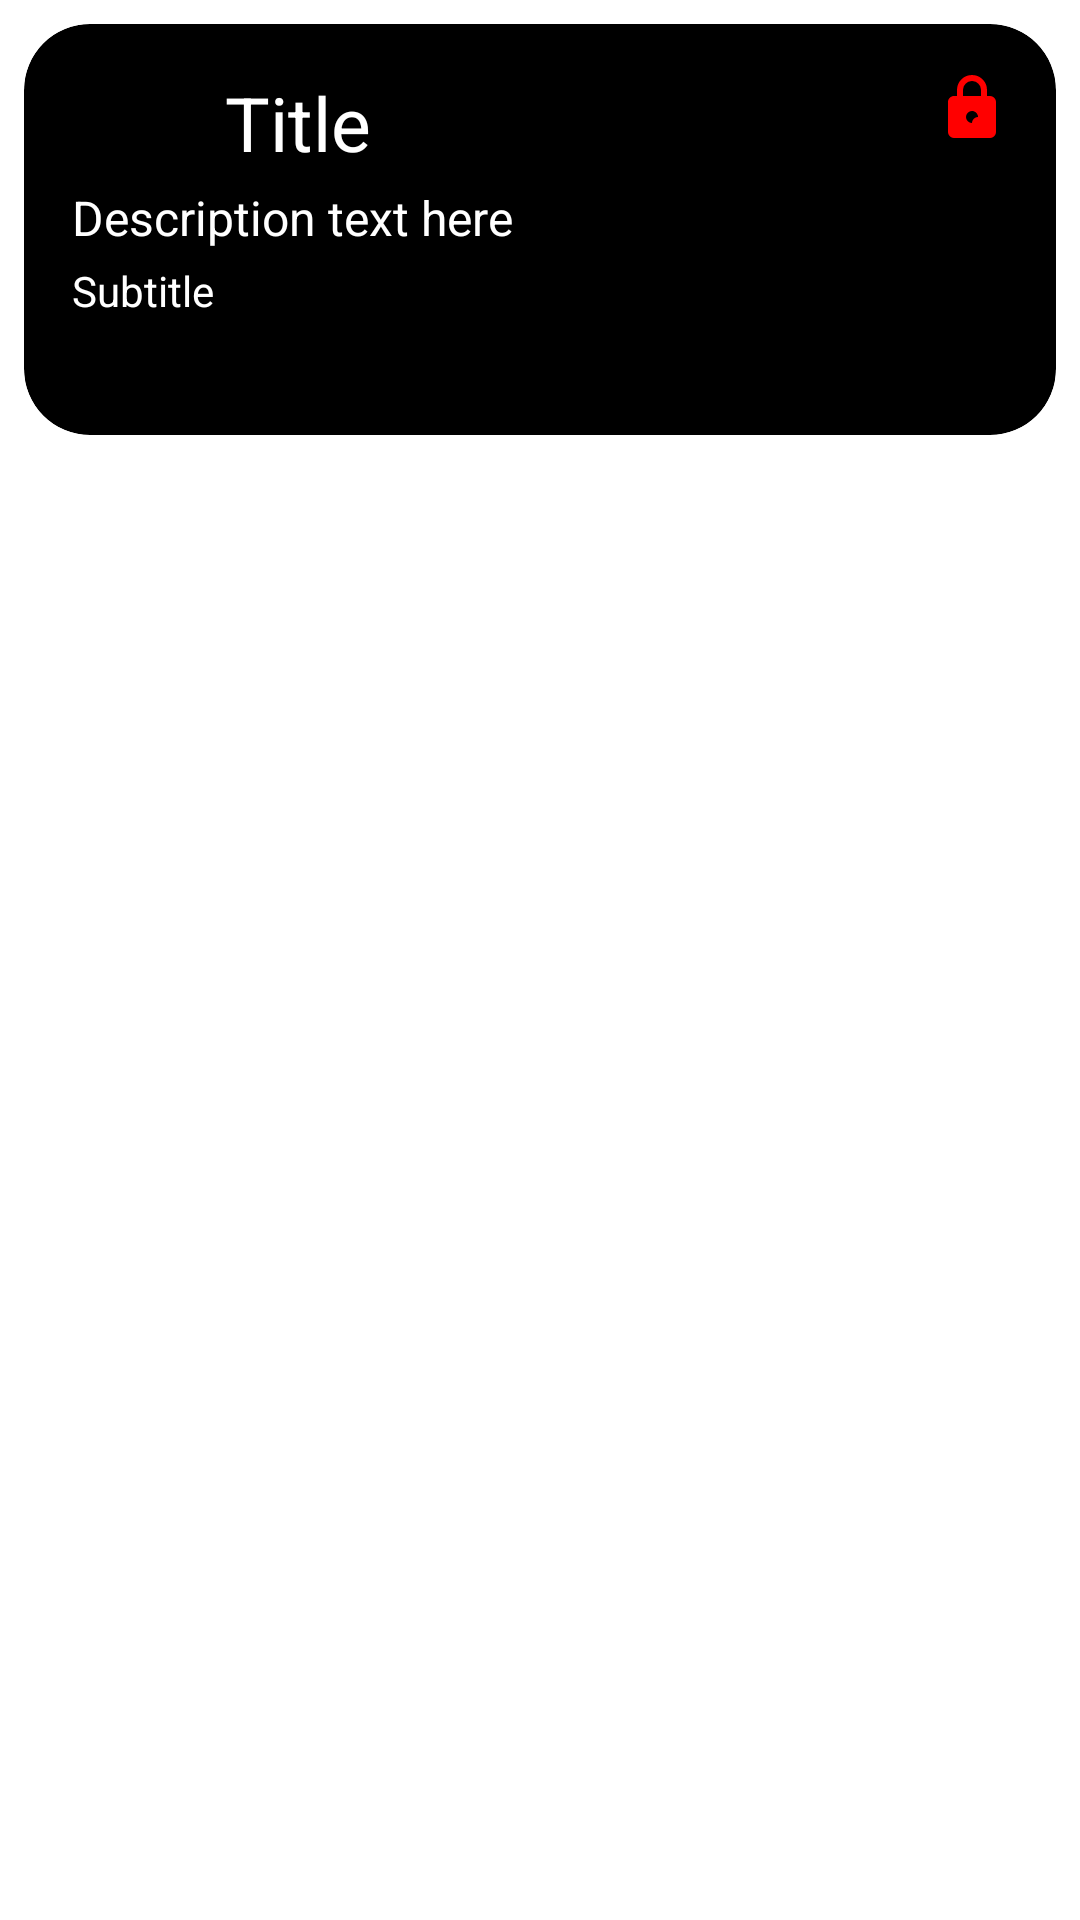

Screen size 1080*1920. Icon name, then its box in pixels as (x1, y1, x2, y2):
lock: (948, 75, 996, 138)
